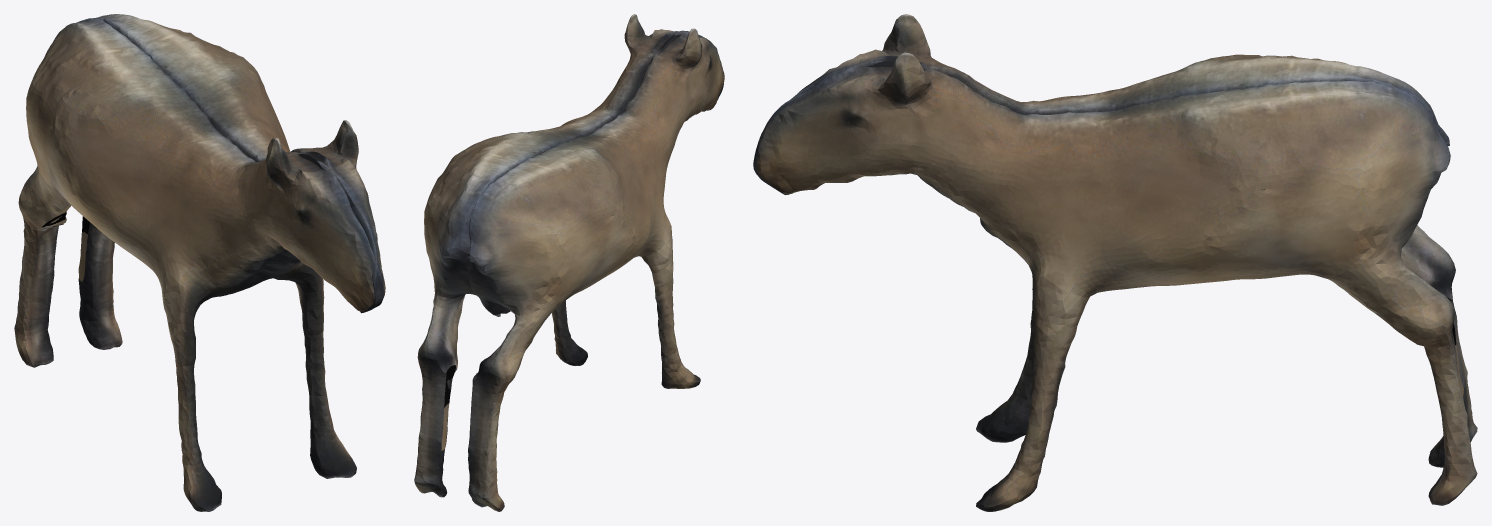
3 views of the same model, side by side, from view 1: azimuth 30°, elevation 25°; view 2: azimuth 150°, elevation 25°; view 3: azimuth 270°, elevation 25° (orthographic). The views are drawn at different scales.
Parts seen in each view (by area): view 1: Mesh_0.002; view 2: Mesh_0.002; view 3: Mesh_0.002.
Part boxes in pixels (box(x1,y1,x2,y2)): Mesh_0.002: box(14, 14, 385, 511); Mesh_0.002: box(414, 14, 724, 511); Mesh_0.002: box(753, 14, 1477, 511).
Size of the model in its own units: 0.5116 by 0.9469 by 1.39.
1 material, 1 textured.
